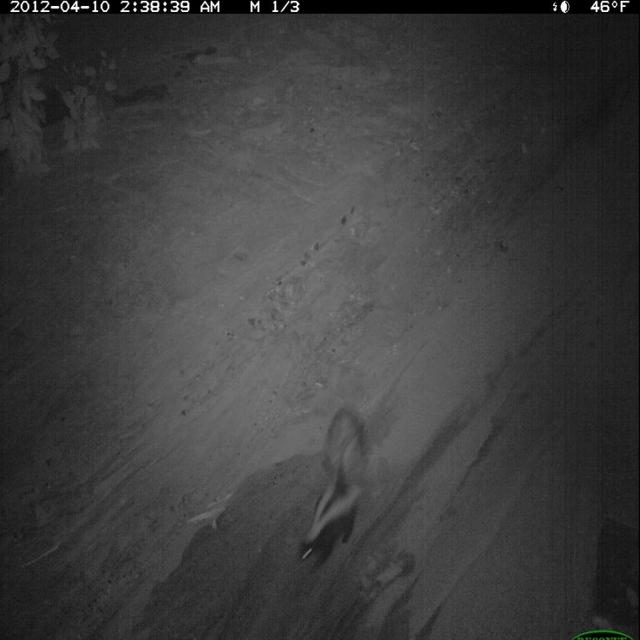skunk: (295, 406, 371, 575)
